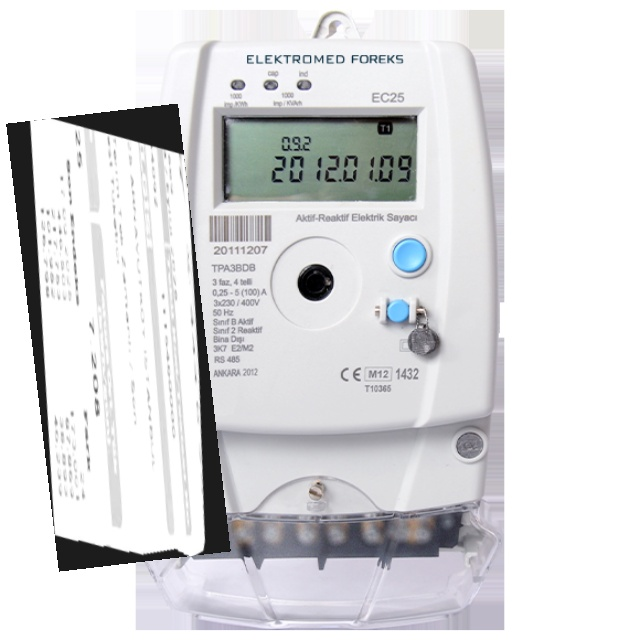electricity-bill: (6, 104, 230, 572)
